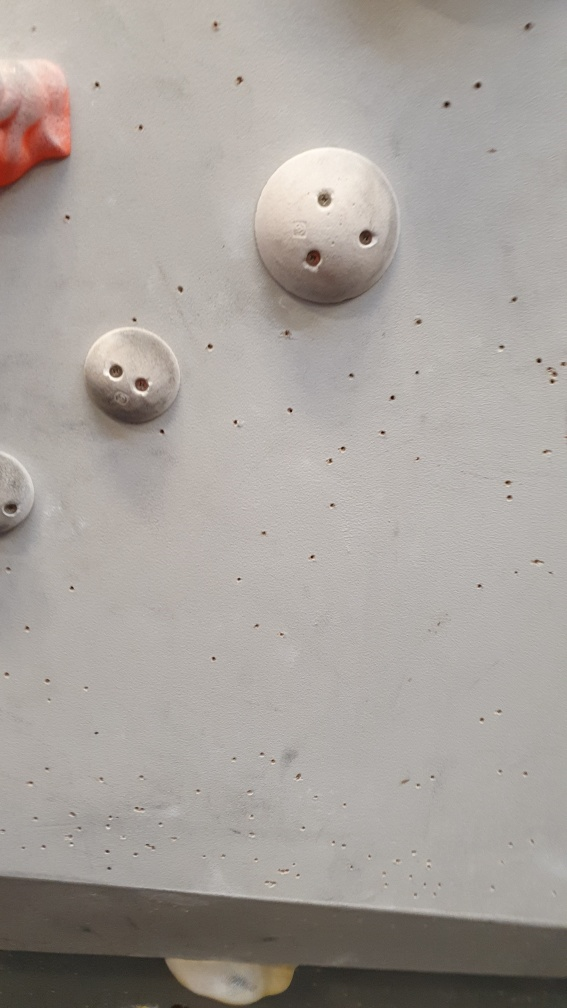Jug: (1, 54, 83, 197)
Sloper: (251, 141, 406, 307), (81, 322, 185, 426), (1, 447, 40, 541)
